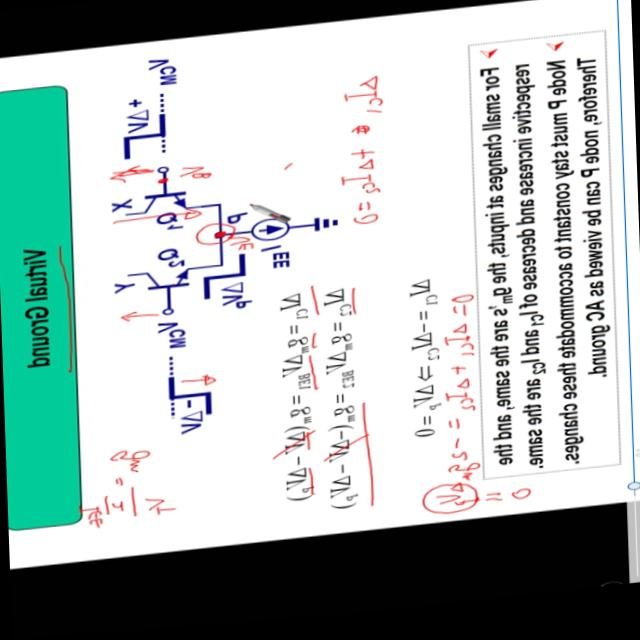panseo: (398, 280, 544, 531), (63, 422, 207, 545), (326, 62, 406, 252)
